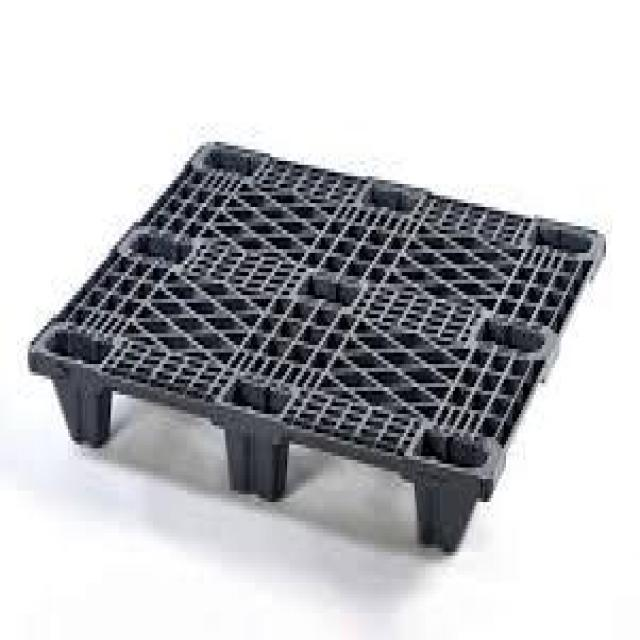block: (219, 409, 286, 506), (411, 456, 478, 553), (43, 361, 111, 449)
front: (22, 344, 483, 566)
